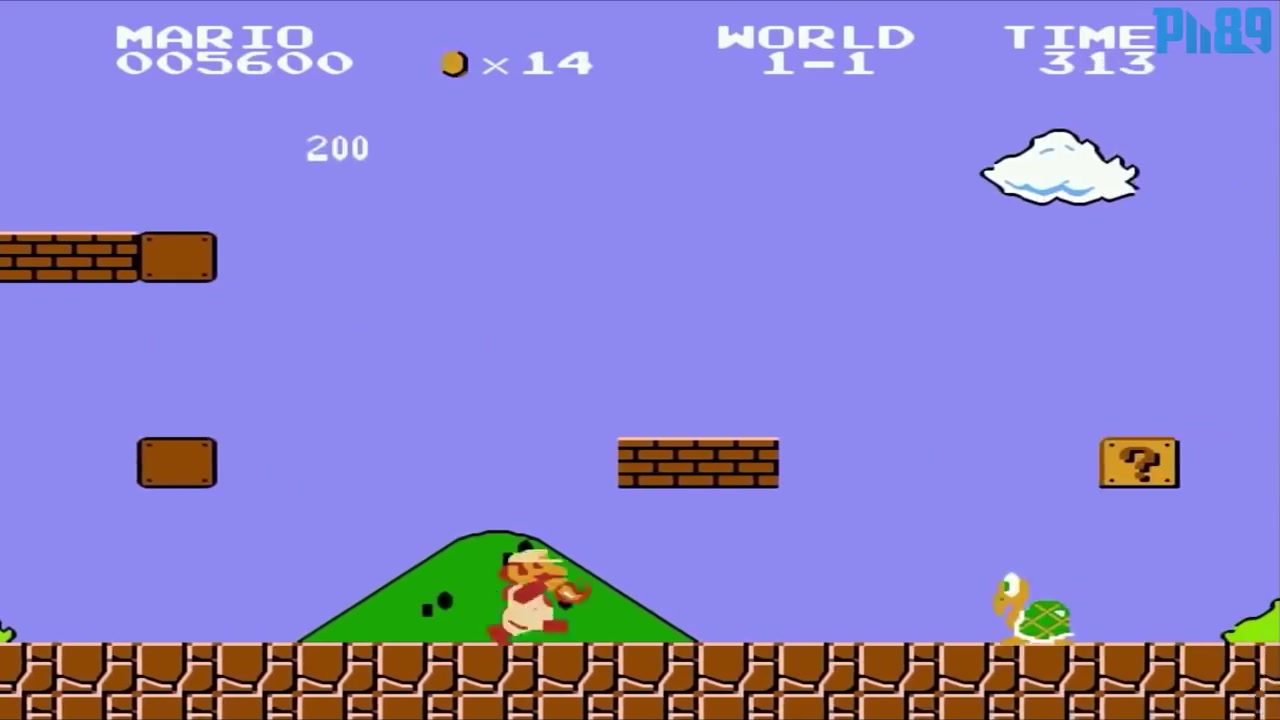mario: (482, 533, 596, 647)
